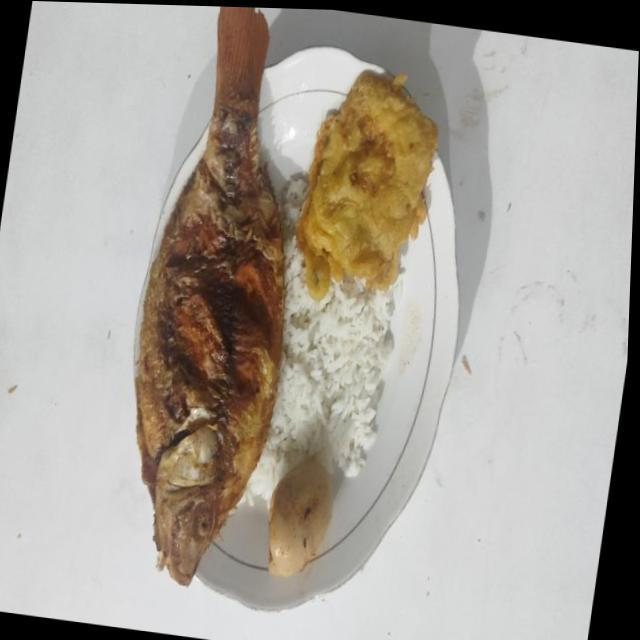ikan_mujair: (134, 7, 284, 586)
nasi_putih: (238, 172, 404, 505)
